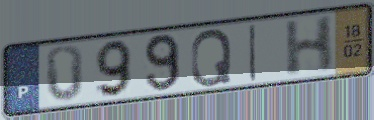0: (43, 44, 85, 105)
9: (92, 37, 134, 100), (143, 31, 183, 95)
H: (283, 13, 336, 80)
I: (247, 22, 259, 84)
Q: (189, 27, 234, 89)
